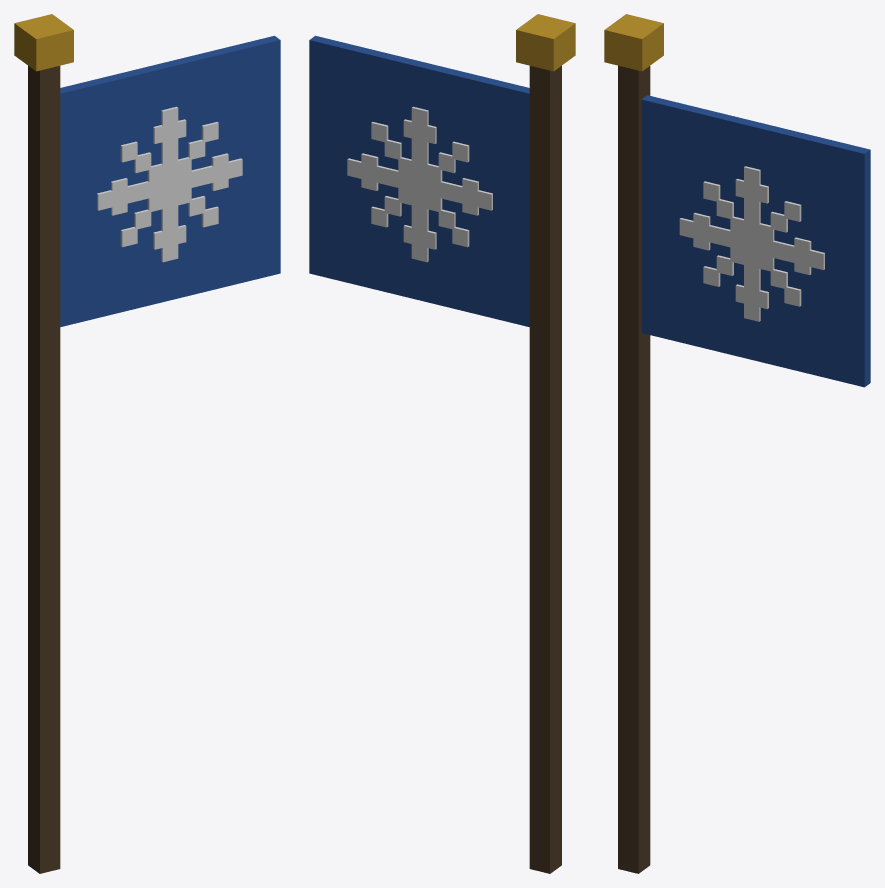
Rendered from ntu-banner-pole.glb.
3 renders of one model, left to right at view 1: azimuth 30°, elevation 25°; view 2: azimuth 150°, elevation 25°; view 3: azimuth 330°, elevation 25°, orthographic.
Visible parts, largest first — view 1: box-prop; view 2: box-prop; view 3: box-prop.
Boxes of the visible parts, bbox=[...] form: box-prop: bbox=[14, 14, 280, 873]; box-prop: bbox=[309, 14, 575, 873]; box-prop: bbox=[604, 14, 870, 873].
Bounding box in the file's own units: 1.47 × 4.68 × 0.22.
